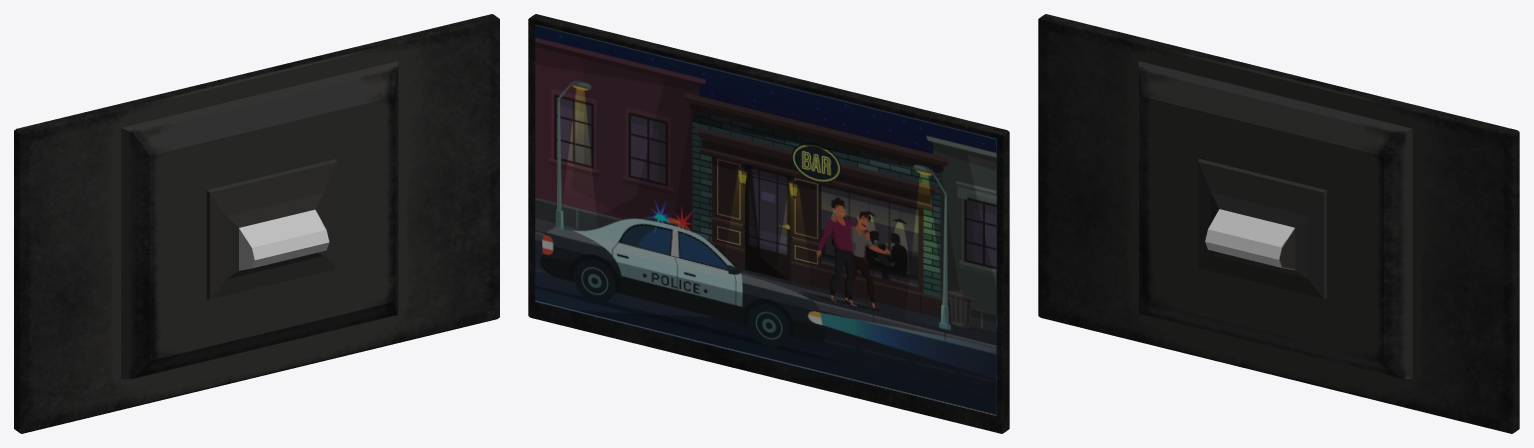
Rendered from TVScreenA.fbx.
3 views of the same model, side by side, from view 1: azimuth 30°, elevation 25°; view 2: azimuth 150°, elevation 25°; view 3: azimuth 330°, elevation 25° (orthographic).
Parts seen in each view (by area): view 1: TVScreenA; view 2: TVScreenA; view 3: TVScreenA.
Part boxes in pixels (x1,y1,x2,y2): TVScreenA: [14, 14, 499, 433]; TVScreenA: [528, 14, 1009, 433]; TVScreenA: [1038, 14, 1519, 433].
Size of the model in its own units: 126 by 75.5 by 18.23.
